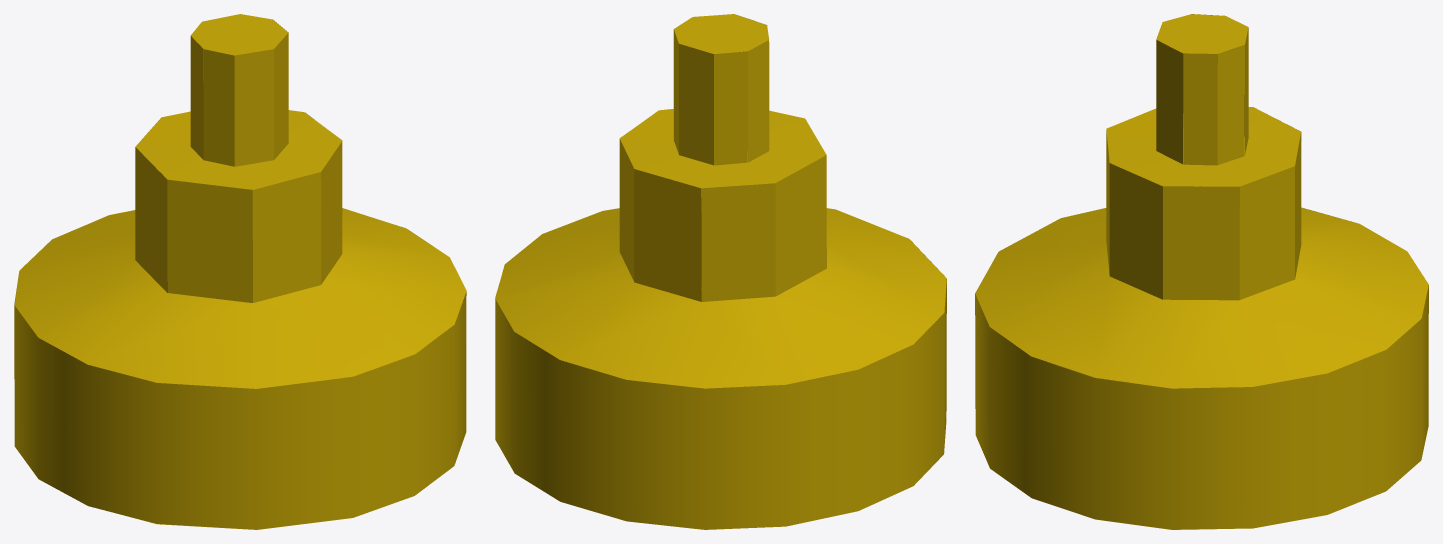
File: original_6.obj
3 views of the same model, side by side, from view 1: azimuth 30°, elevation 25°; view 2: azimuth 150°, elevation 25°; view 3: azimuth 270°, elevation 25° (orthographic).
Visible parts, largest first — view 1: #ID15; view 2: #ID15; view 3: #ID15.
Boxes of the visible parts, x1=… form: #ID15: x1=14, y1=14, x2=466, y2=529; #ID15: x1=495, y1=14, x2=946, y2=529; #ID15: x1=975, y1=14, x2=1428, y2=529.
Size of the model in its own units: 0.397 by 0.3884 by 0.3984.
